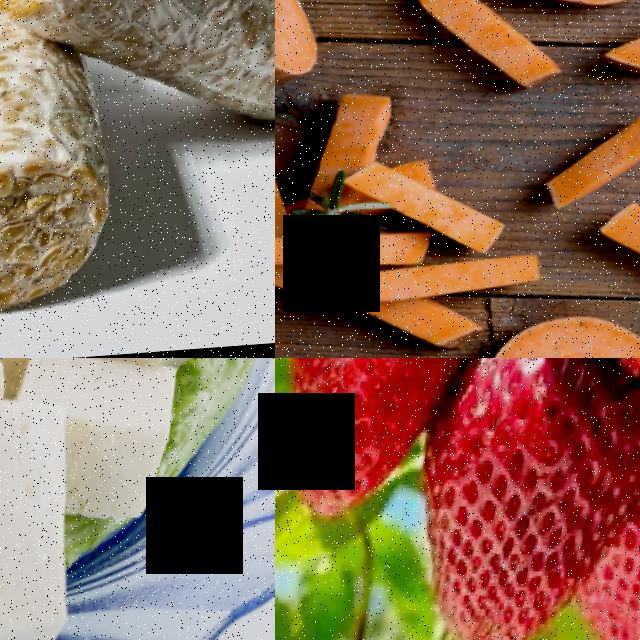strawberry: (402, 358, 628, 640), (275, 358, 478, 527)
sweet potato: (485, 309, 640, 358), (275, 0, 337, 121)
tempeh: (0, 36, 139, 326), (0, 0, 275, 81)
tofu: (0, 382, 98, 640), (67, 358, 189, 528)
